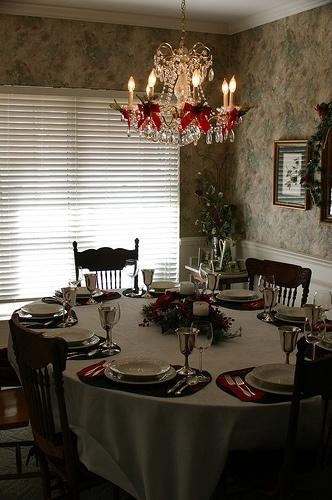chair: (8, 320, 108, 500), (1, 385, 44, 482), (73, 238, 143, 294), (245, 259, 313, 312)
diningtable: (10, 288, 332, 500)
